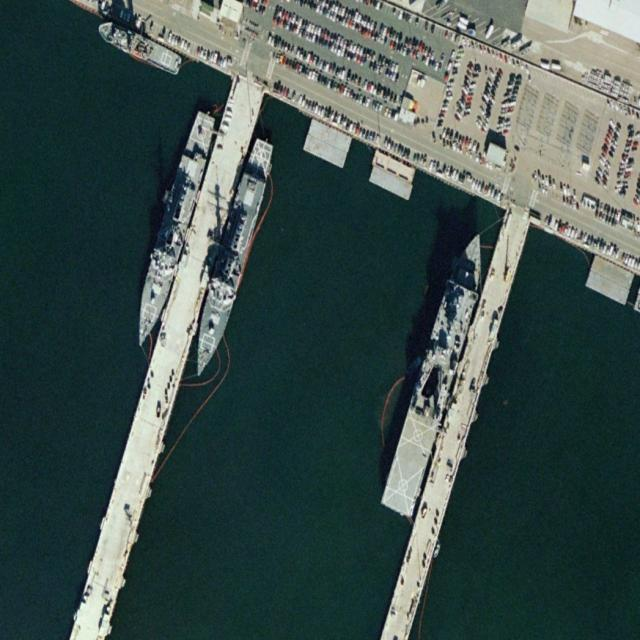Destroyer: (187, 134, 278, 383), (127, 106, 218, 352)
Landing: (378, 224, 496, 520)
Other Ship: (94, 15, 183, 77)
